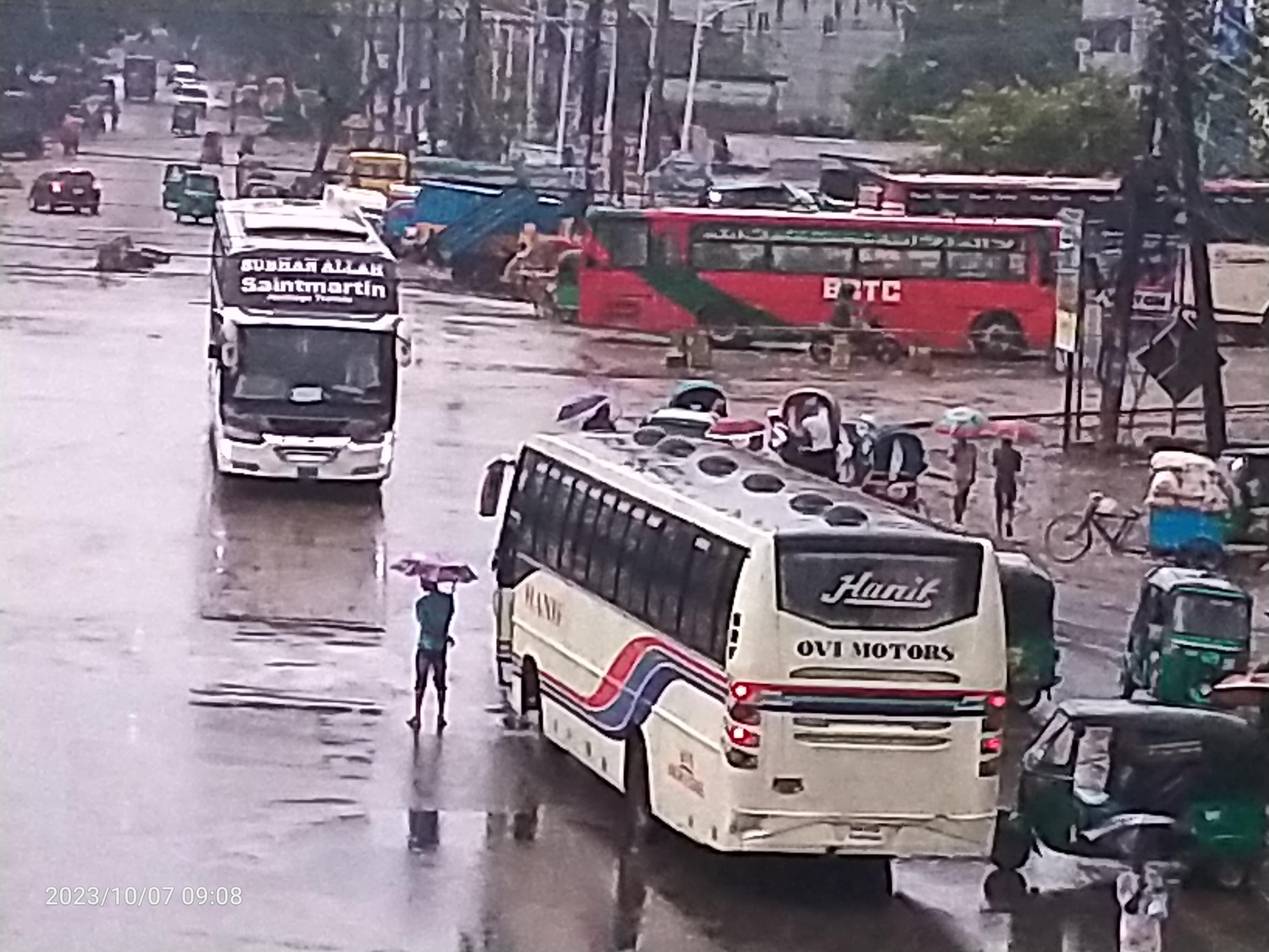Bus: (455, 399, 1035, 903), (557, 181, 1103, 379), (177, 172, 417, 538), (846, 140, 1141, 251), (1144, 154, 1269, 355)
Car: (6, 160, 104, 226)
Truck: (112, 47, 161, 105)
